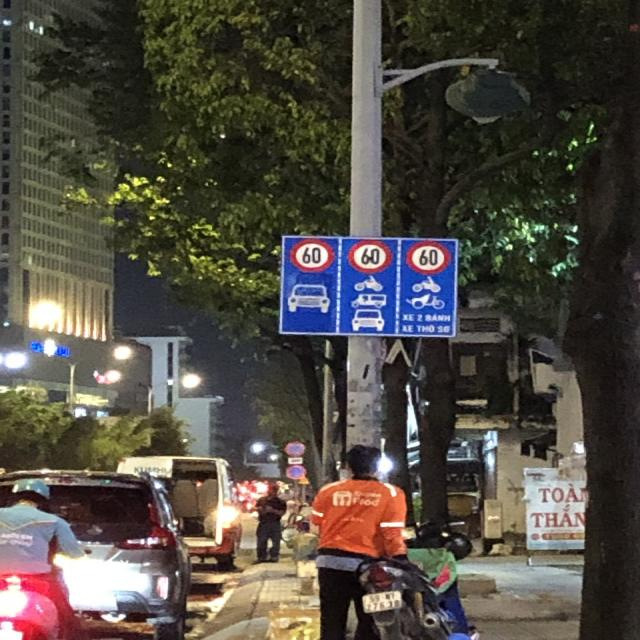Bien bao toc do toi da cho phep: (402, 236, 458, 276), (284, 235, 341, 274), (347, 237, 398, 274)
